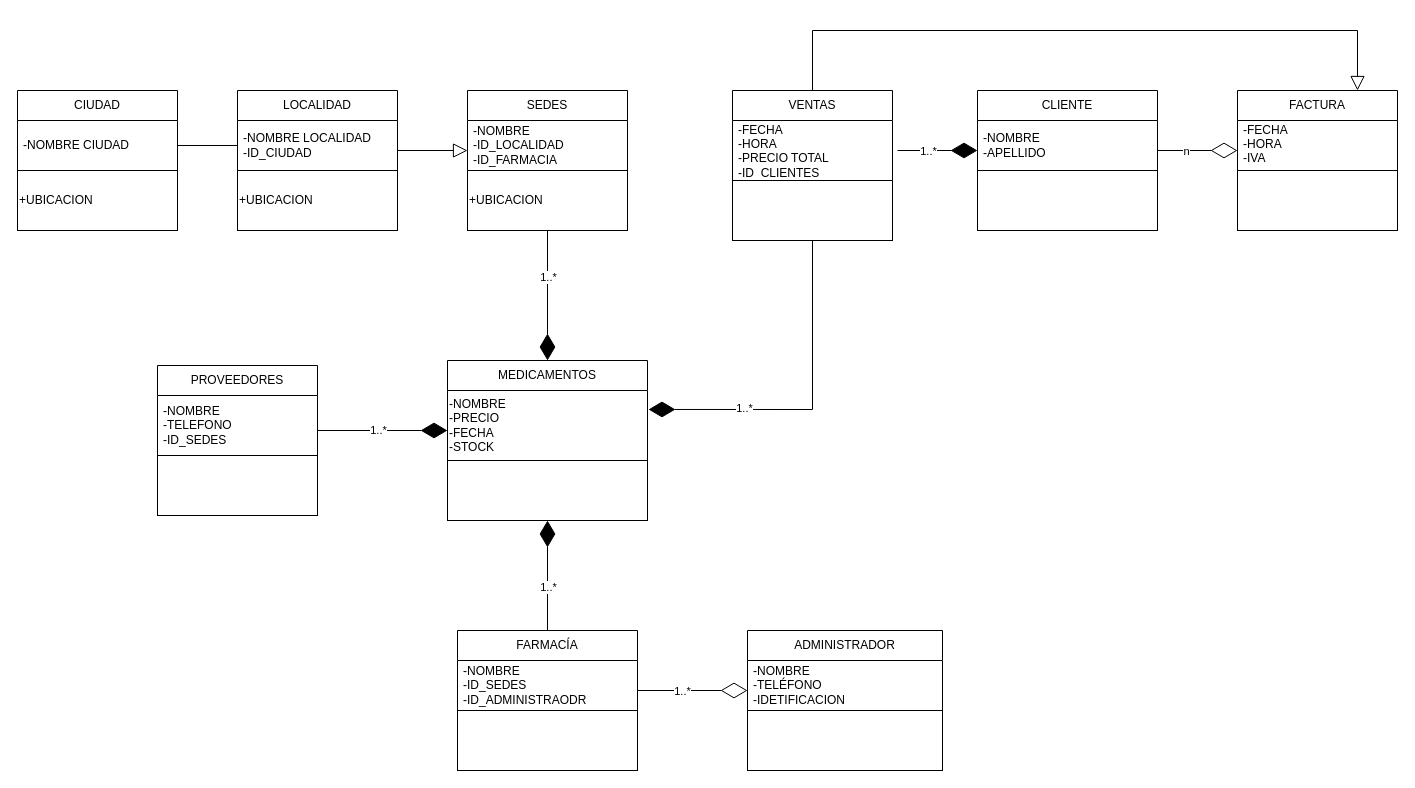
This 1415x788 diagram has some shape labels left out. Here are the shapes that lost their labels. From the top down, the centre of each, then its label:
At (x=812, y=210): "+VENTA() +REGISTRO VENTA()".
At (x=1067, y=200): "+COMPRA() +RECIBIR PEDIDO() +PAGO()".
At (x=1317, y=200): "+GENERAR FACTURA".
At (x=237, y=485): "+VENTA DIRECTA() +PEDIDOS ESPECIALES()".
At (x=547, y=490): "+ FECHA DE VENCIMIENTO()".
At (x=547, y=740): "+VENTAS() +COMPRAS() +DISTRIBUCION()".
At (x=844, y=740): "+MANTENIMENTO Y CONTROL()".
